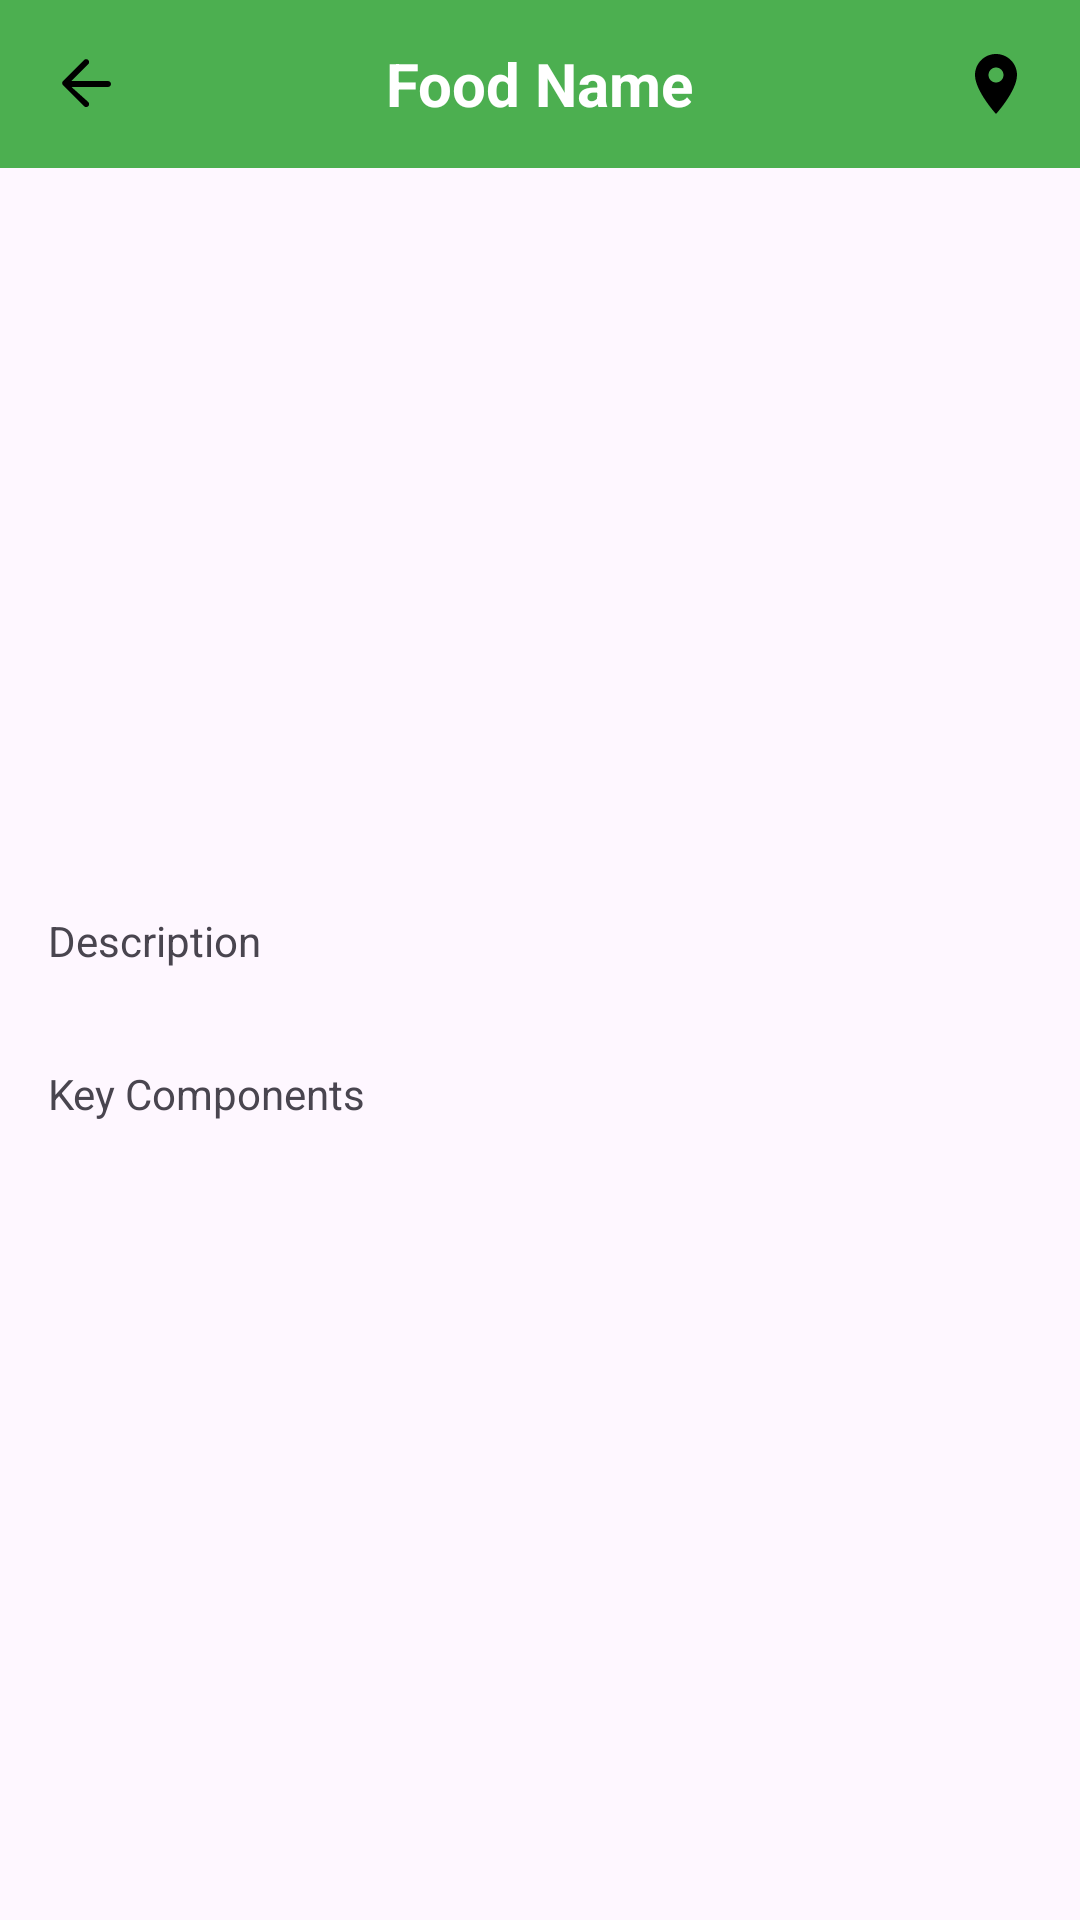

Where icons sit on this 1080w x 1920h app screen, as {"x1": x1, "y1": y1, "x2": x2, "y2": y2}:
back: {"x1": 62, "y1": 59, "x2": 111, "y2": 107}
map: {"x1": 975, "y1": 54, "x2": 1017, "y2": 114}
